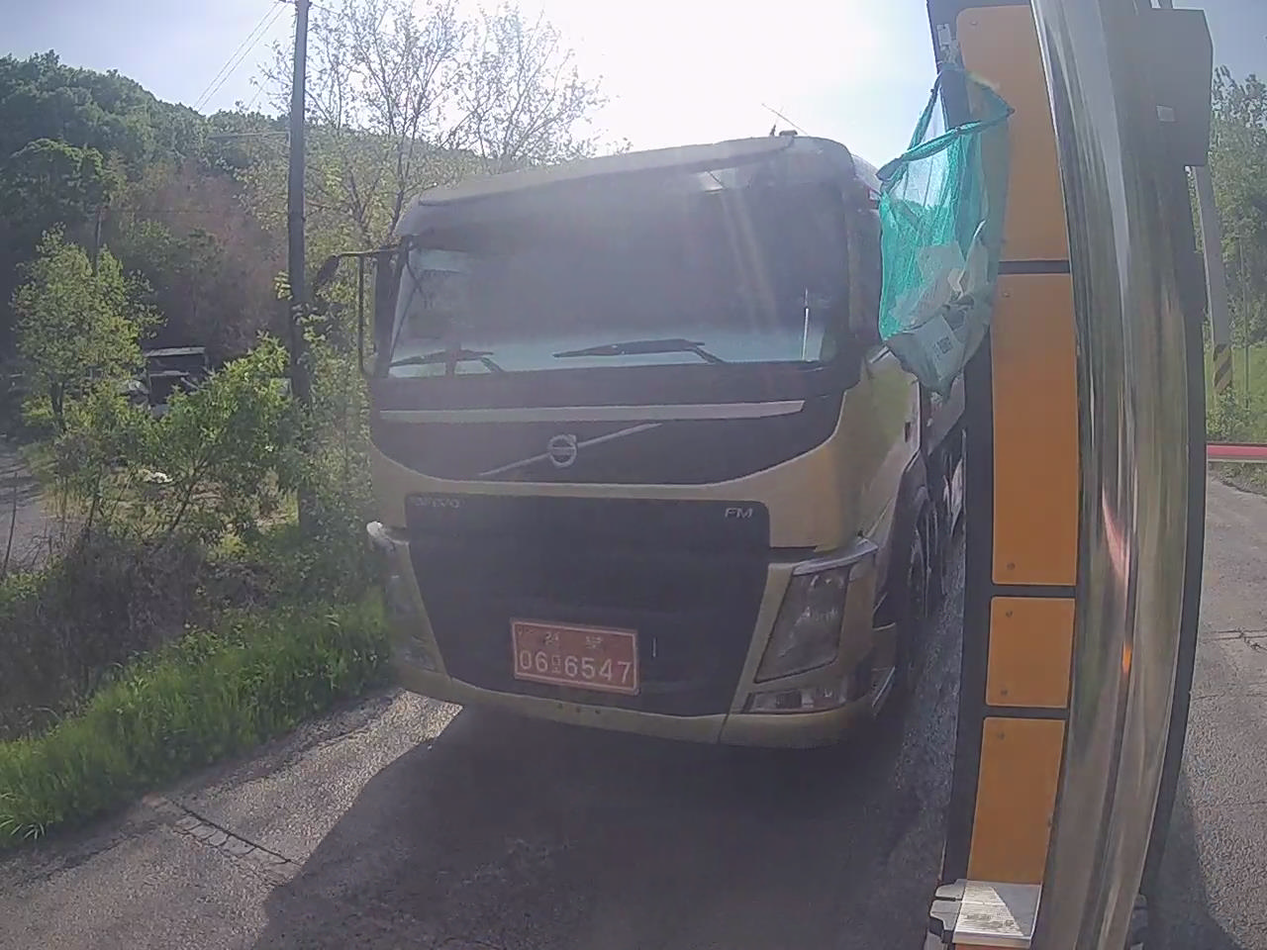license_plate: (512, 622, 638, 694)
truck: (366, 135, 963, 746)
